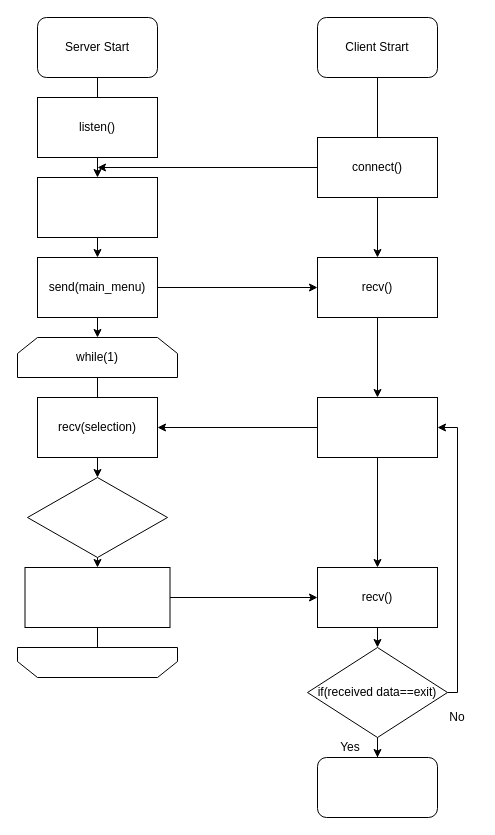
Image size: 495x835. Some labels were removed from this diagram. The shapes that lost their labels are listed below. From the top down, each one's box as (x1, y1, x2, y2) in pixels, then its label:
(36, 176, 158, 238): accept()
(316, 396, 438, 458): send(typed data)
(26, 476, 168, 558): switch(seclection) run(selectedcase)
(24, 566, 170, 628): send(selected case output)
(316, 756, 438, 818): Client terminate
